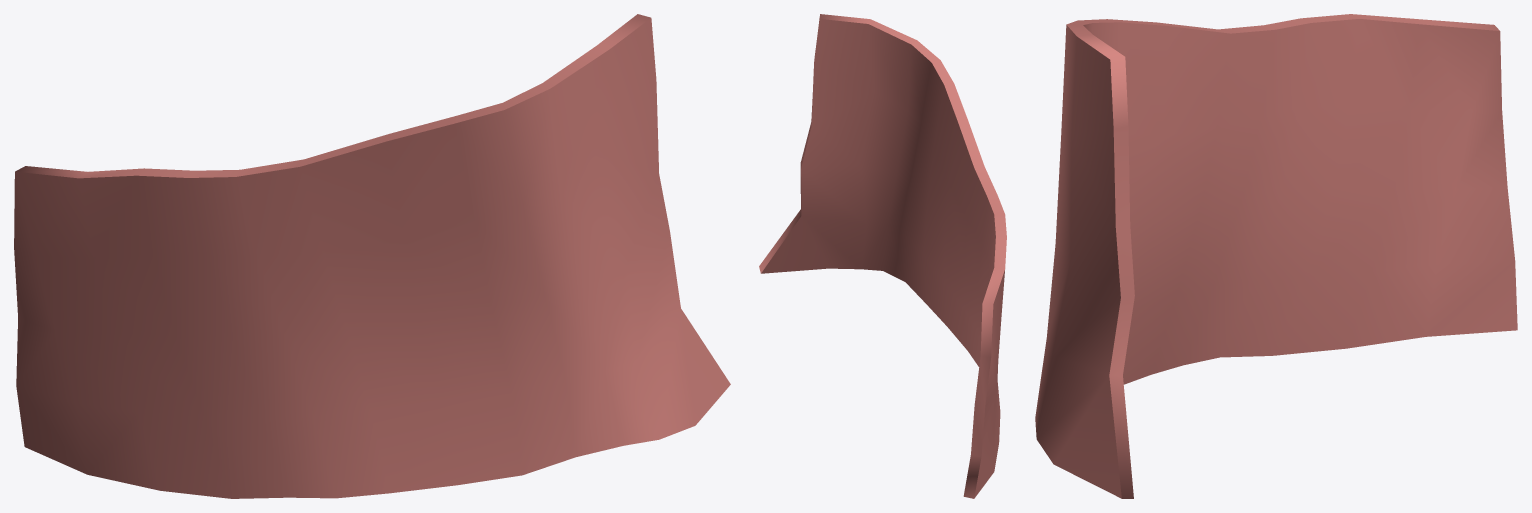
The picture shows the model from 3 angles, left to right: view 1: azimuth 30°, elevation 25°; view 2: azimuth 150°, elevation 25°; view 3: azimuth 270°, elevation 25°; orthographic projection. The views are drawn at different scales.
Visible parts, largest first — view 1: ZA_007976f72a5c4d1f; view 2: ZA_007976f72a5c4d1f; view 3: ZA_007976f72a5c4d1f.
Part boxes in pixels (left/top/right/bottom): ZA_007976f72a5c4d1f: left=14, top=14, right=730, bottom=498; ZA_007976f72a5c4d1f: left=759, top=14, right=1006, bottom=498; ZA_007976f72a5c4d1f: left=1035, top=14, right=1517, bottom=498.
Bounding box in the file's own units: 0.0373 × 0.0315 × 0.0289.
